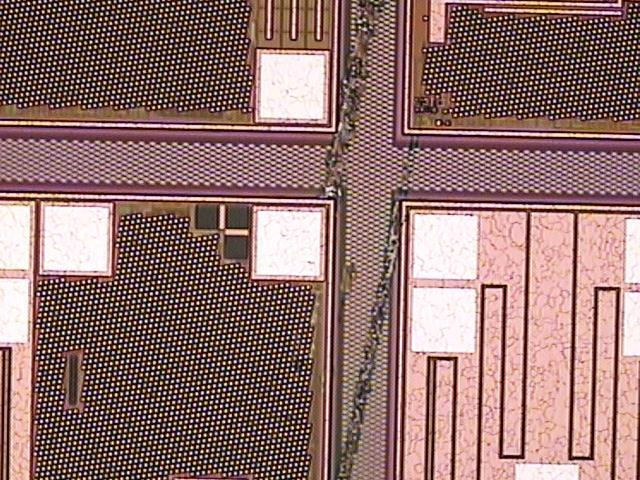SCRATCH: (289, 1, 453, 480)
